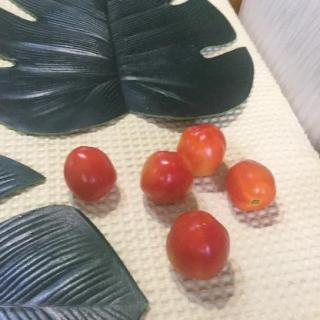Tomat: (163, 209, 234, 282), (138, 145, 198, 207), (221, 160, 283, 218), (63, 145, 124, 203), (174, 125, 230, 177)
